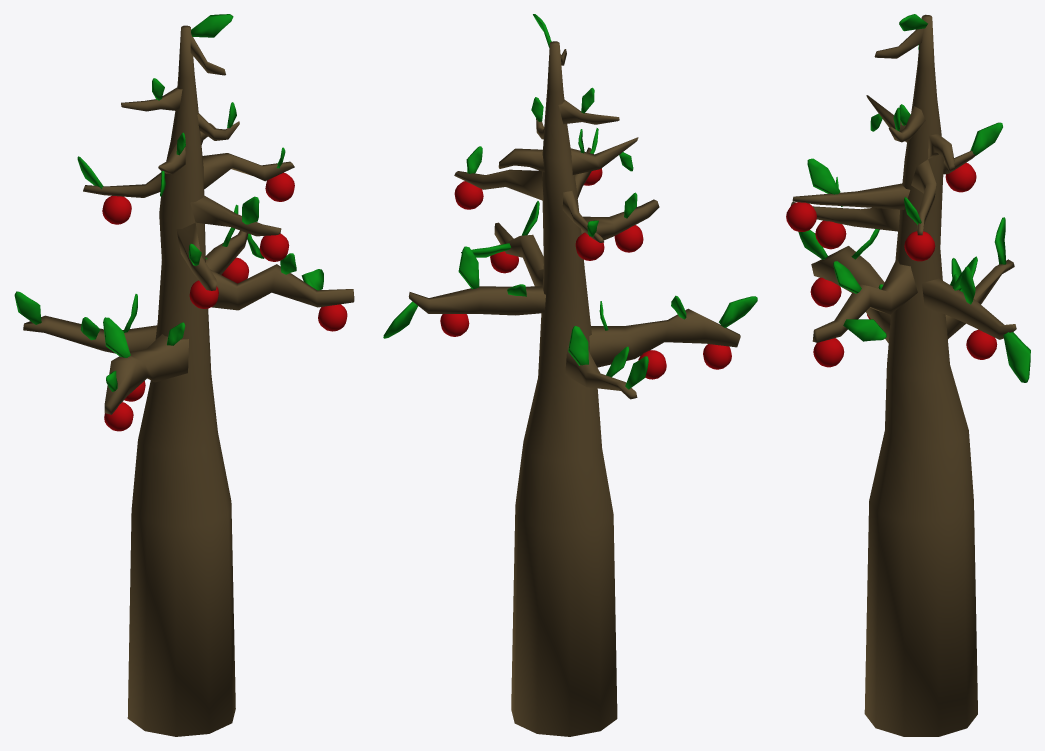
File: tree_red.glb
3 renders of one model, left to right at view 1: azimuth 30°, elevation 25°; view 2: azimuth 150°, elevation 25°; view 3: azimuth 270°, elevation 25°, orthographic. The views are drawn at different scales.
Visible parts, largest first — view 1: body, branch, leaf, fruit; view 2: body, branch, leaf, fruit; view 3: body, branch, leaf, fruit.
Part boxes in pixels (x1,y1,x2,y2): body: [127, 25, 235, 736]; branch: [23, 34, 354, 414]; leaf: [14, 14, 323, 391]; fruit: [102, 172, 347, 431]; body: [511, 41, 617, 736]; branch: [408, 49, 740, 399]; leaf: [383, 14, 757, 389]; fruit: [440, 168, 731, 379]; body: [864, 14, 977, 736]; branch: [791, 28, 1016, 342]; leaf: [798, 14, 1030, 382]; fruit: [786, 162, 997, 367].
Size of the model in its own units: 0.4124 by 1.02 by 0.316.
